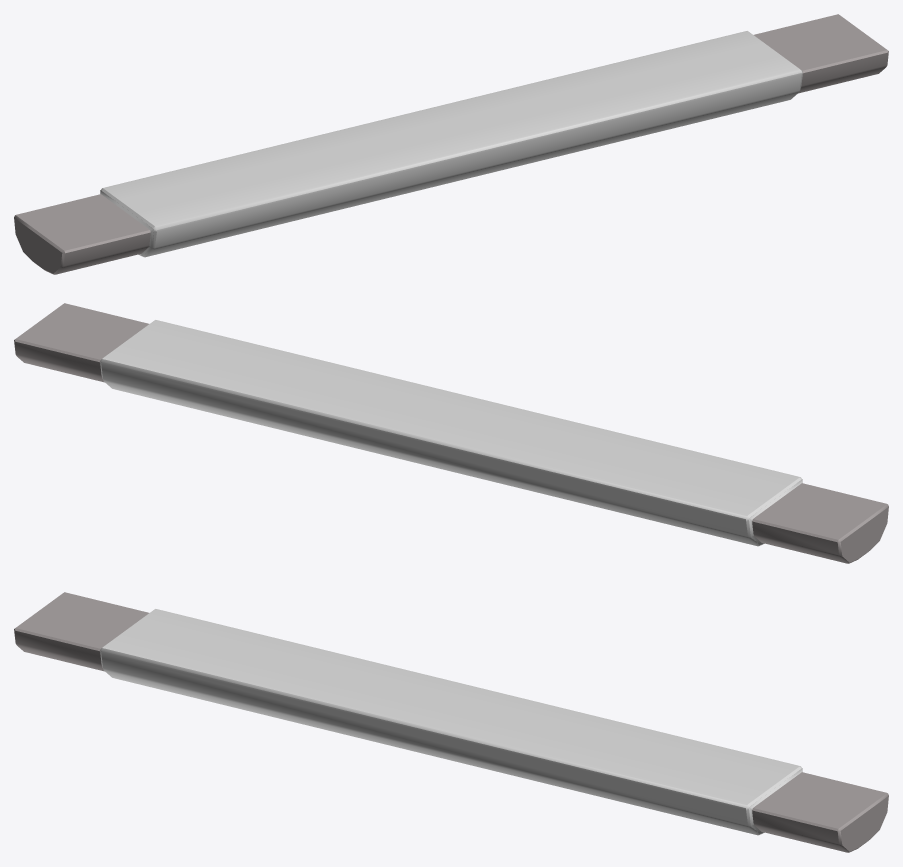
The model's file is Lampe.fbx.
The picture shows the model from 3 angles, top to bottom: view 1: azimuth 30°, elevation 25°; view 2: azimuth 150°, elevation 25°; view 3: azimuth 330°, elevation 25°; orthographic projection.
Parts seen in each view (by area): view 1: Lampe; view 2: Lampe; view 3: Lampe.
Part boxes in pixels (x1=…): Lampe: x1=14, y1=14, x2=888, y2=274; Lampe: x1=14, y1=303, x2=888, y2=563; Lampe: x1=14, y1=592, x2=888, y2=852.
Size of the model in its own units: 267 by 12.89 by 31.06.
